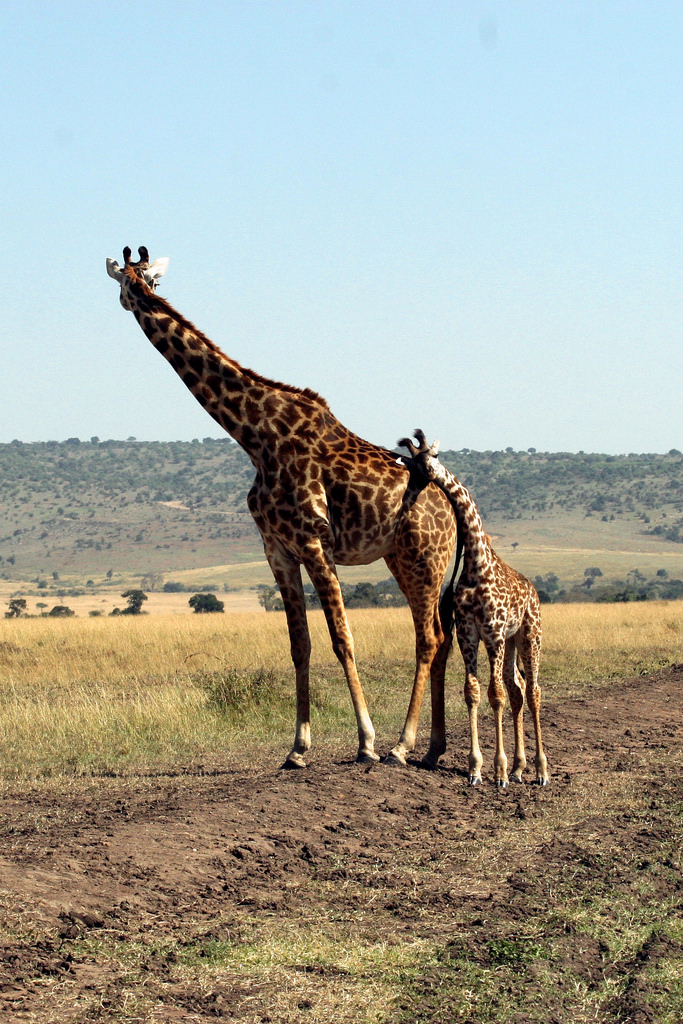giraffe: (92, 237, 428, 777), (392, 420, 555, 814)
